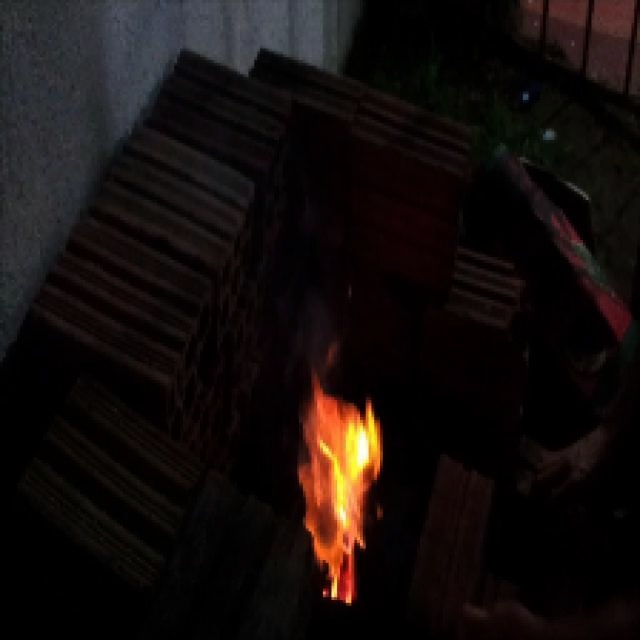fire: (276, 339, 415, 599)
